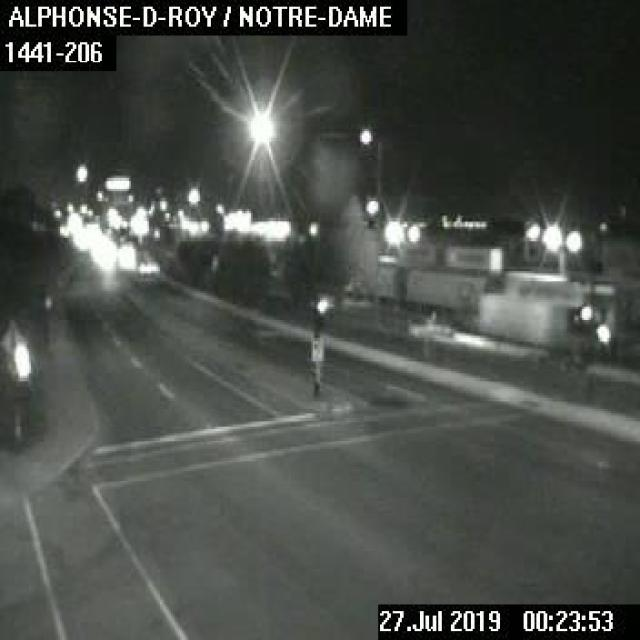vehicle: (69, 220, 158, 276)
